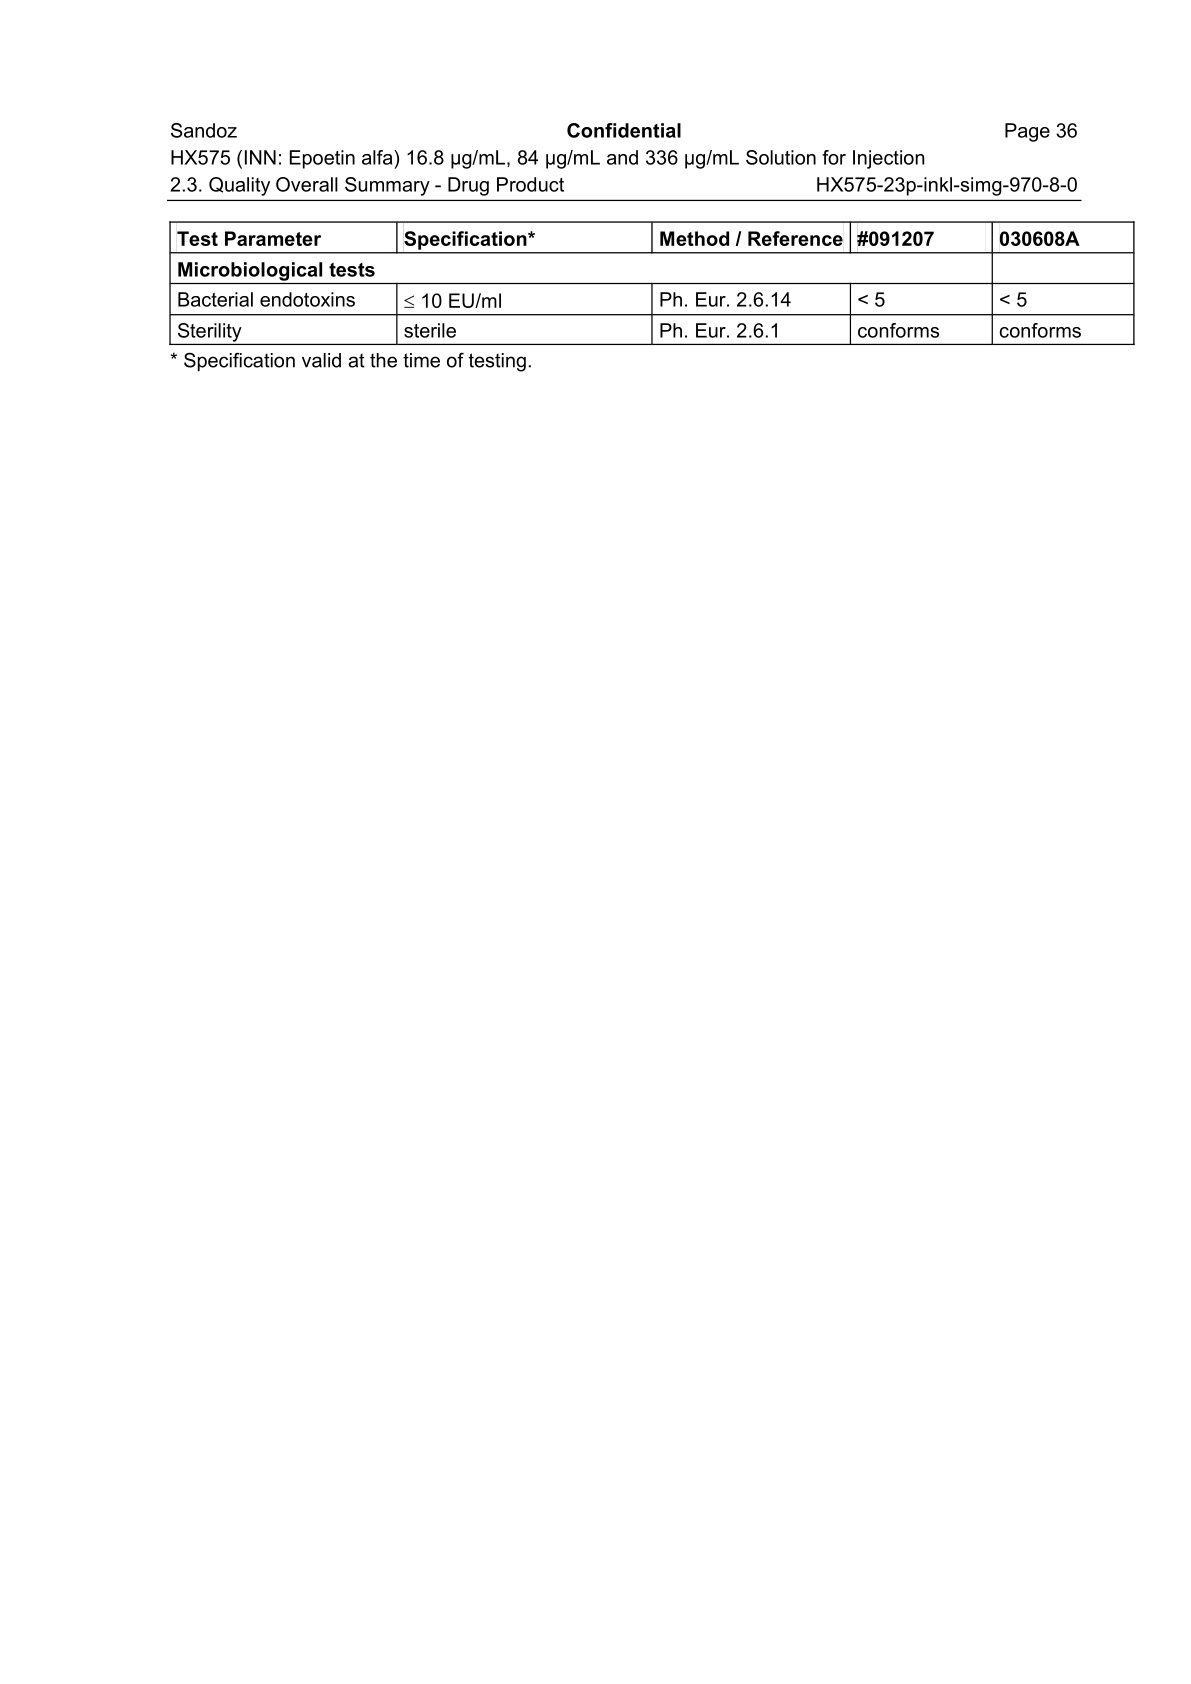partial_lined_merged_cells: (168, 219, 1136, 348)
